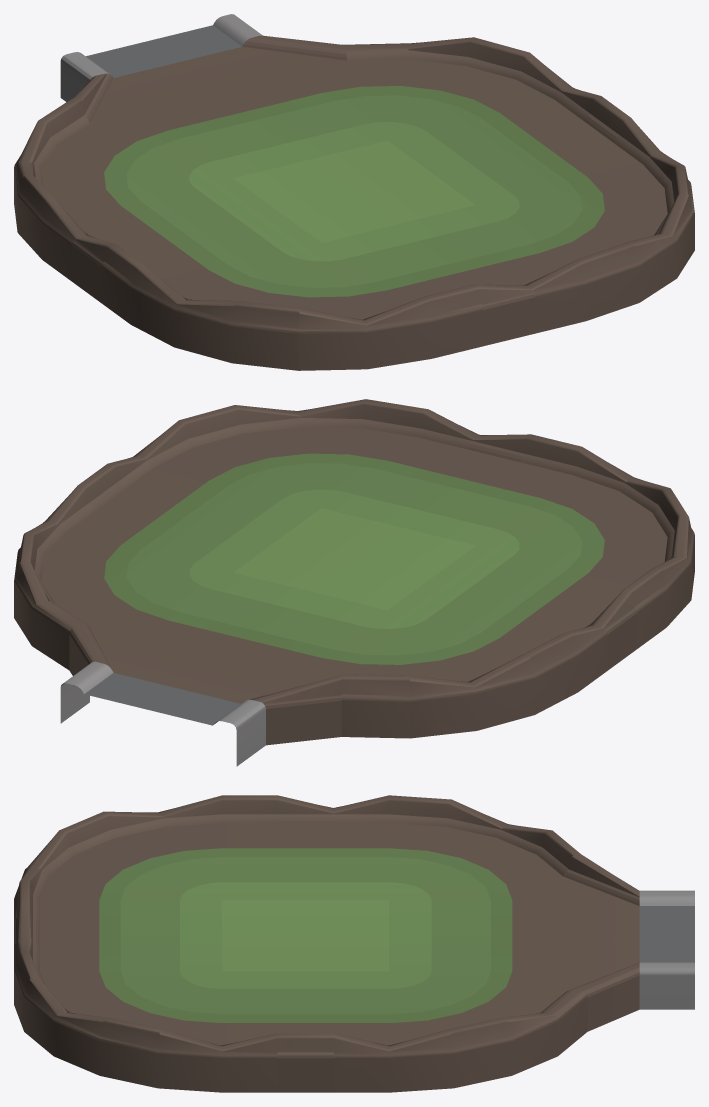
File: Road_derstination_base_country.fbx
3 renders of one model, top to bottom at view 1: azimuth 30°, elevation 25°; view 2: azimuth 150°, elevation 25°; view 3: azimuth 270°, elevation 25°, orthographic. The views are drawn at different scales.
Visible parts, largest first — view 1: Destination_base1; view 2: Destination_base1; view 3: Destination_base1.
Boxes of the visible parts, x1,y1,x2,y2 form: Destination_base1: (14, 14, 694, 370); Destination_base1: (14, 399, 694, 766); Destination_base1: (14, 795, 694, 1092).
Size of the model in its own units: 2.81 by 0.2845 by 3.27.
